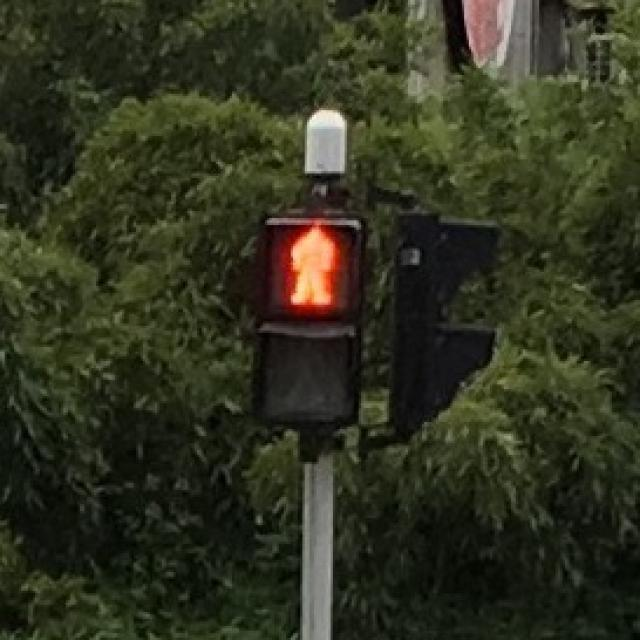red-crossing: (272, 217, 352, 313)
